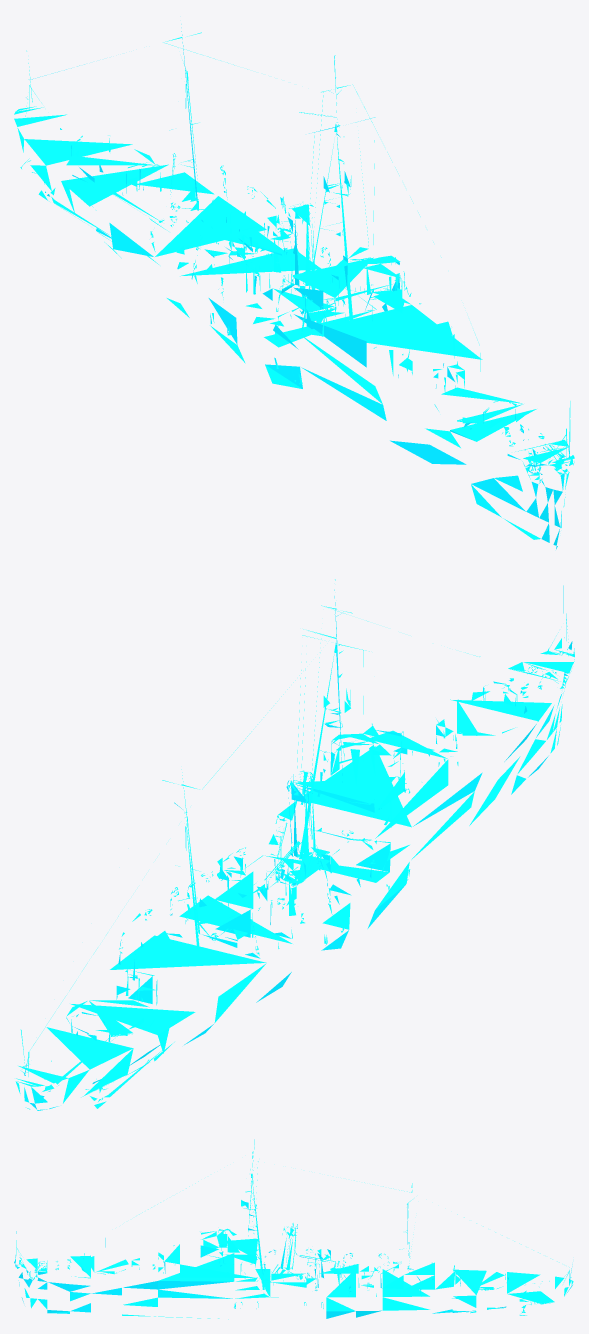
Rendered from Hashidate.glb.
3 renders of one model, top to bottom at view 1: azimuth 30°, elevation 25°; view 2: azimuth 150°, elevation 25°; view 3: azimuth 270°, elevation 25°, orthographic. The views are drawn at different scales.
Size of the model in its own units: 0.6617 by 1.83 by 5.37.
